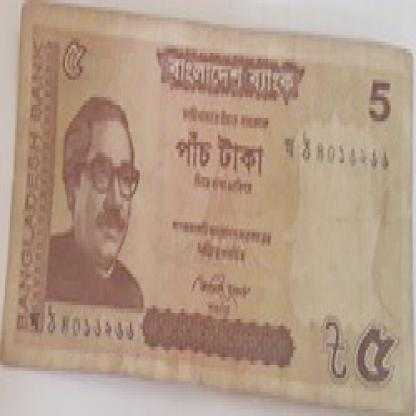Five Taka: (356, 312, 401, 402), (364, 66, 396, 139), (58, 38, 90, 94)
